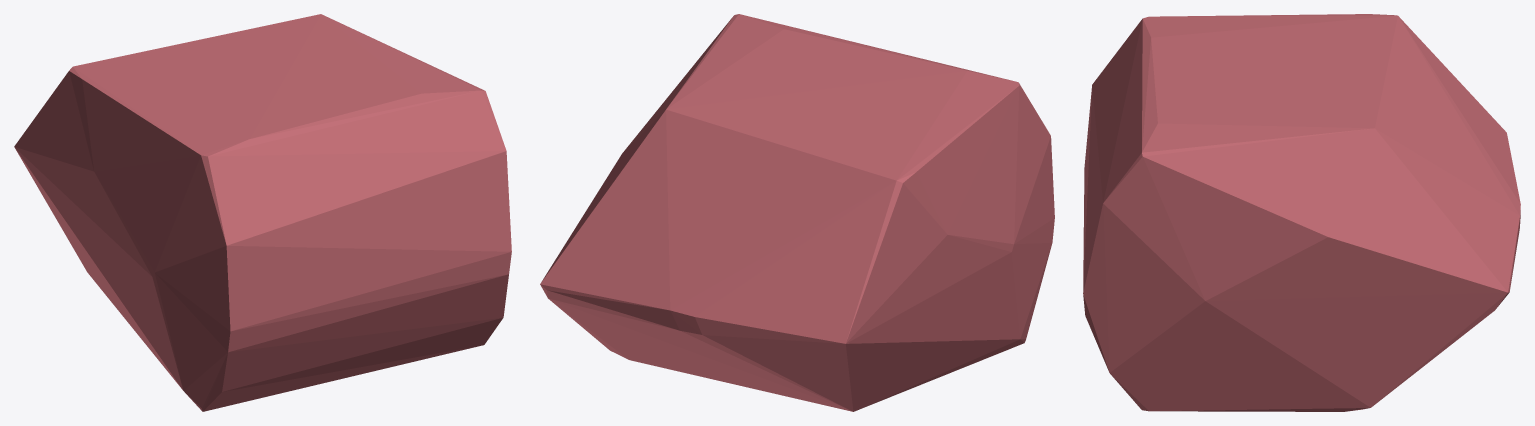
Rendered from container_plastic_grit_green_b01.glb.
3 renders of one model, left to right at view 1: azimuth 30°, elevation 25°; view 2: azimuth 150°, elevation 25°; view 3: azimuth 270°, elevation 25°, orthographic. The views are drawn at different scales.
Parts seen in each view (by area): view 1: geometry_0; view 2: geometry_0; view 3: geometry_0.
Boxes of the visible parts, x1=… form: geometry_0: x1=14, y1=14, x2=511, y2=411; geometry_0: x1=540, y1=14, x2=1054, y2=411; geometry_0: x1=1083, y1=14, x2=1520, y2=411.
Bounding box in the file's own units: 0.4069 × 0.3163 × 0.4781.
